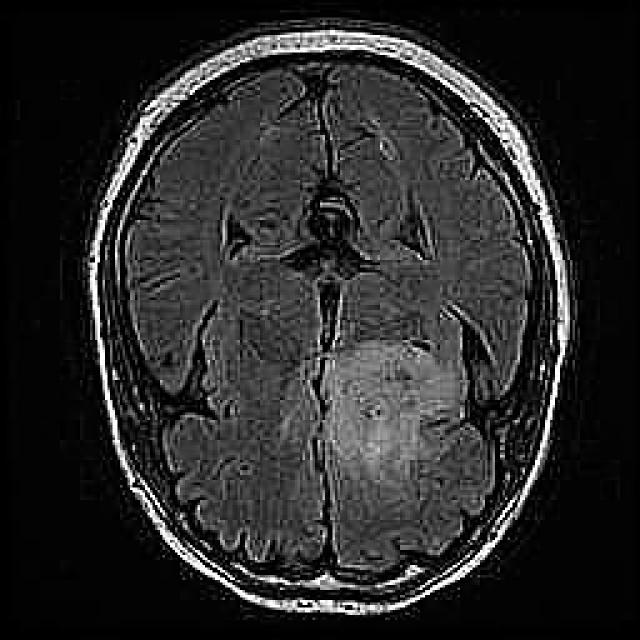Tumor-Cell: (310, 304, 460, 484)
